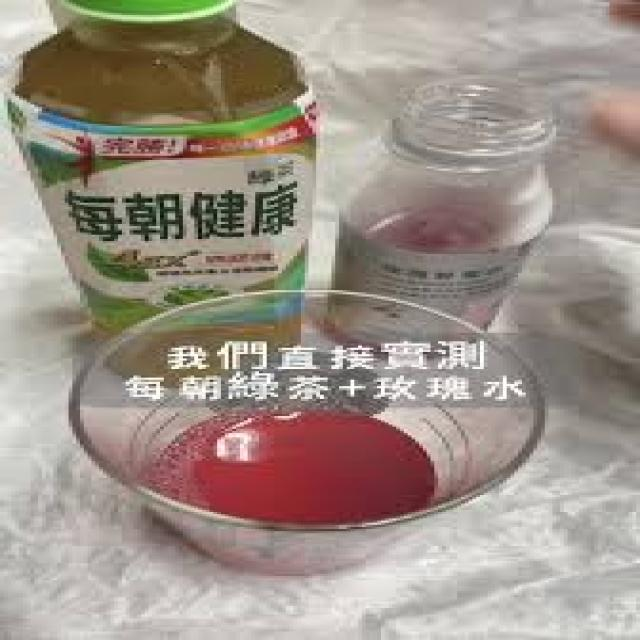MeiChou_GreenTea: (3, 0, 316, 374)
